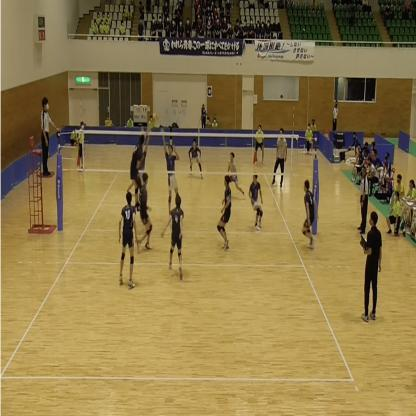spike: (127, 111, 163, 211)
